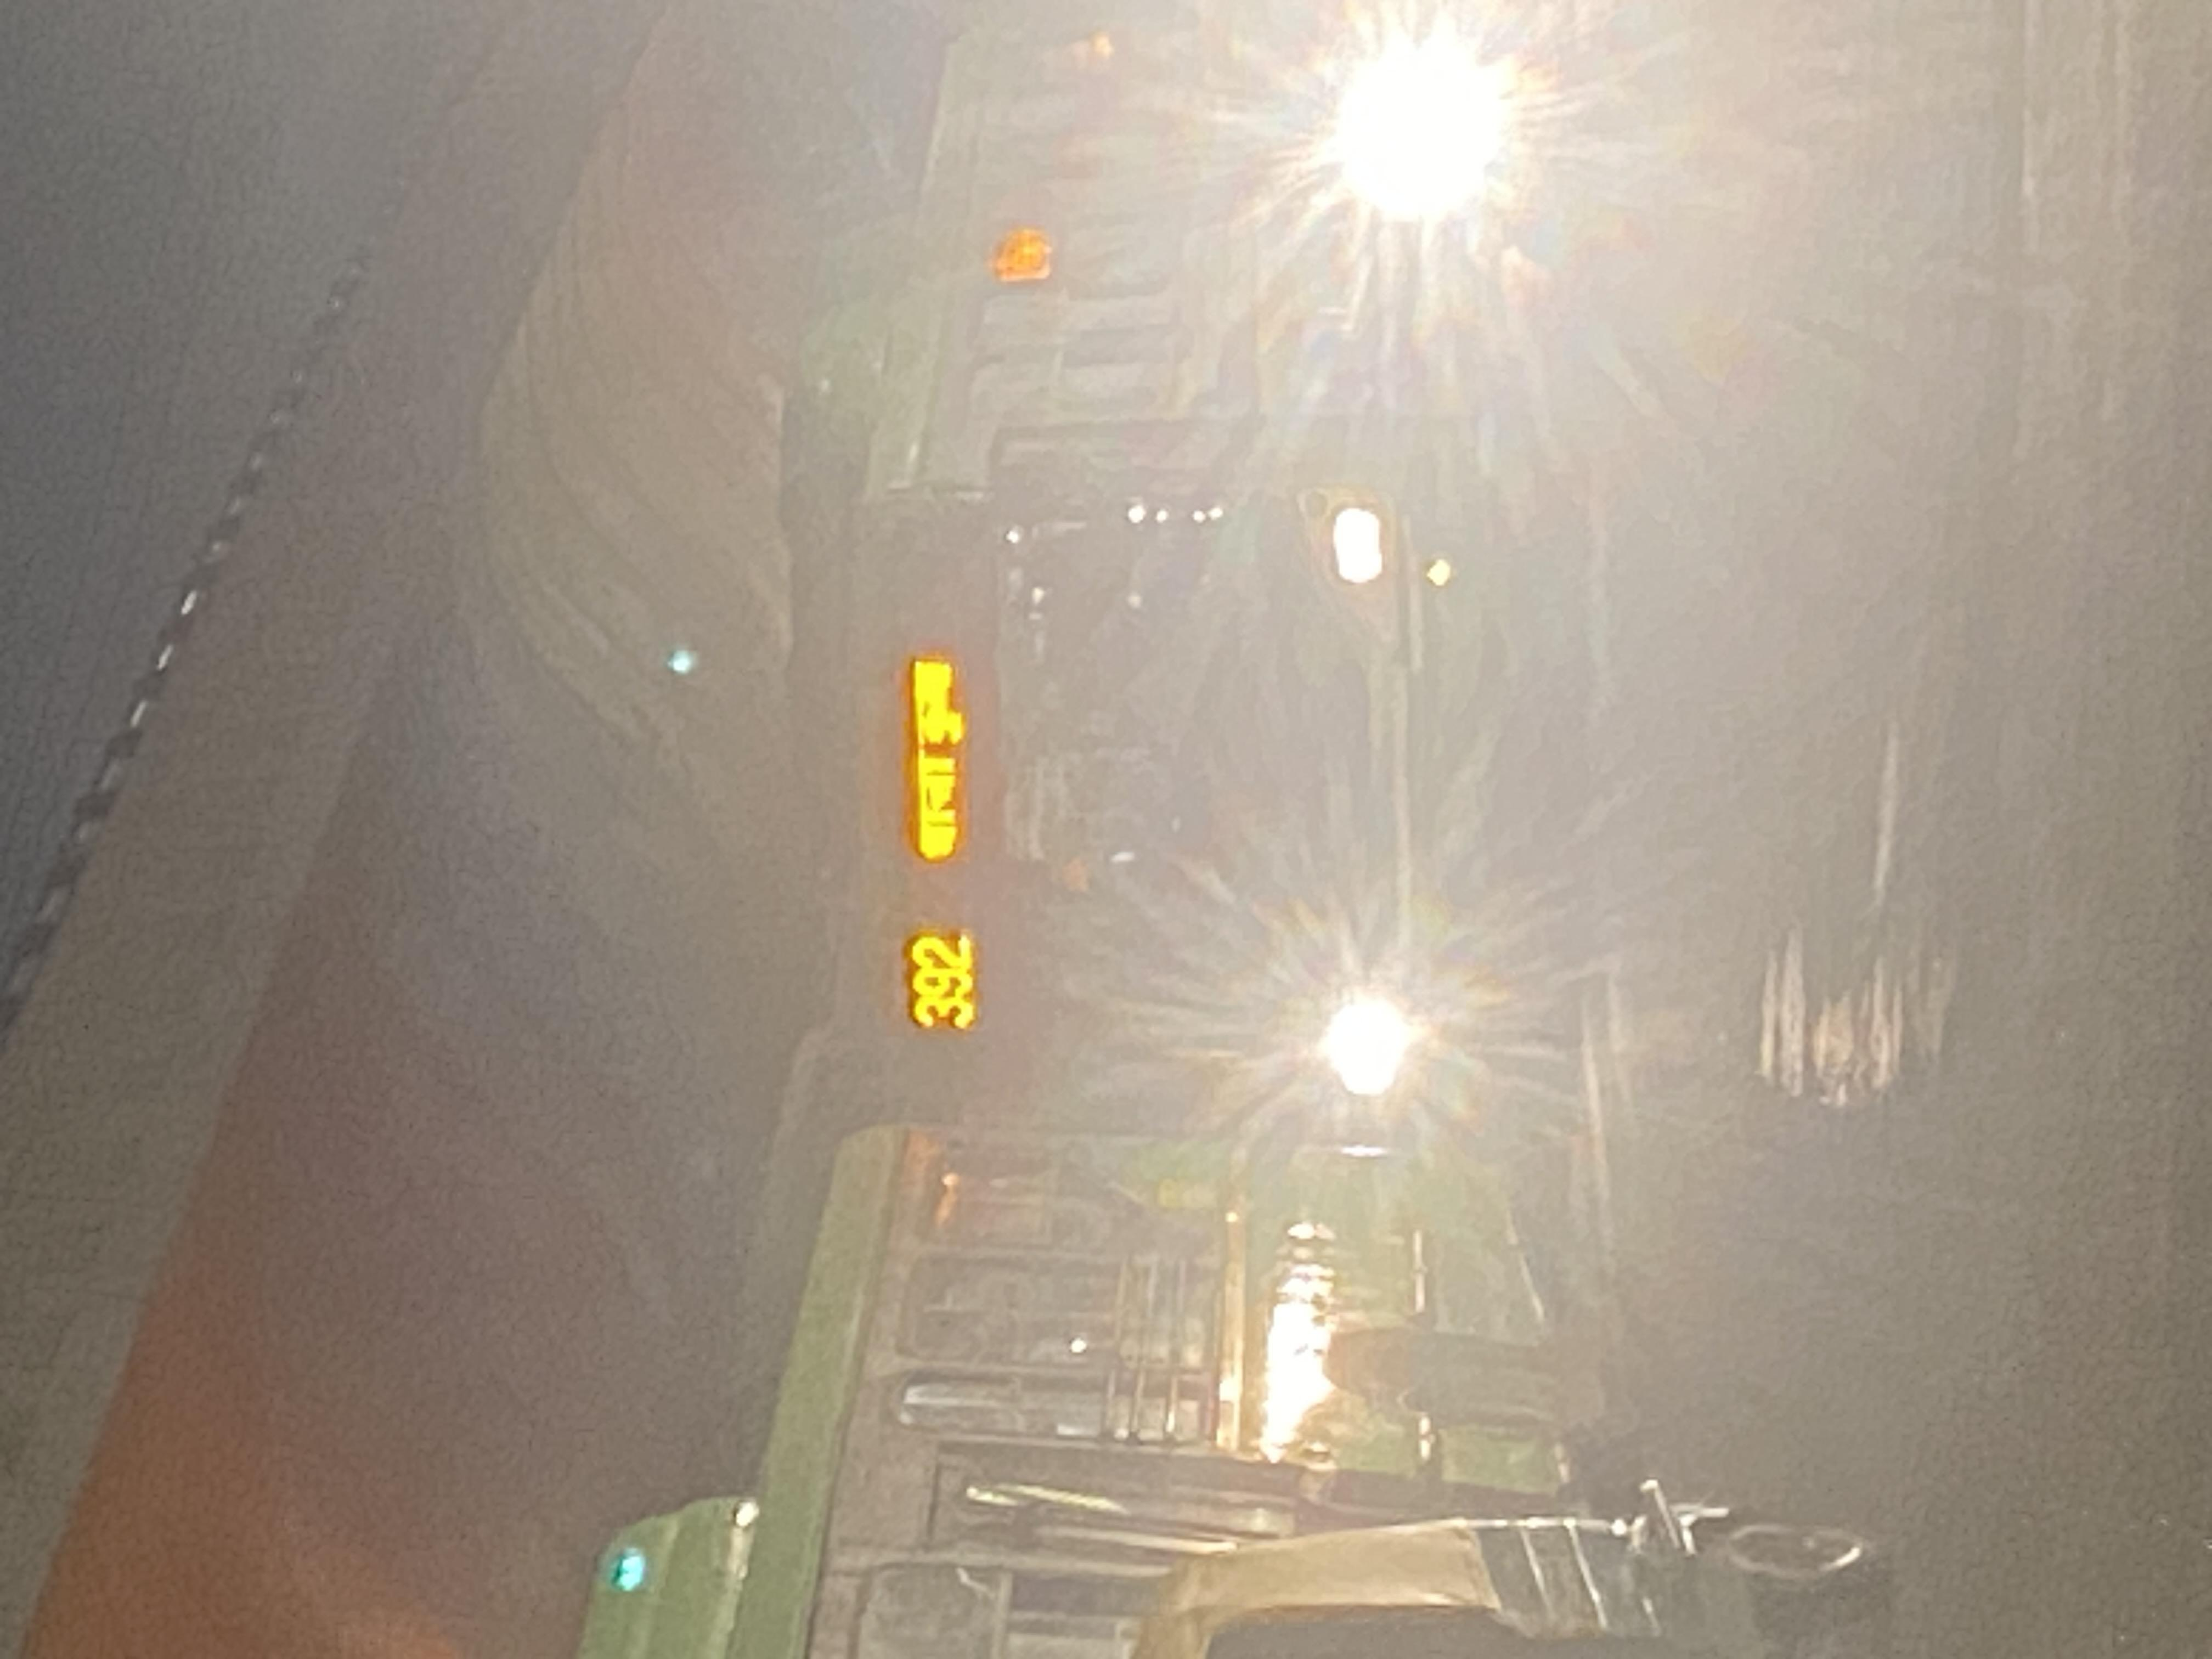Bus: (779, 429, 1508, 1169)
Display Board: (822, 549, 1026, 1119)
